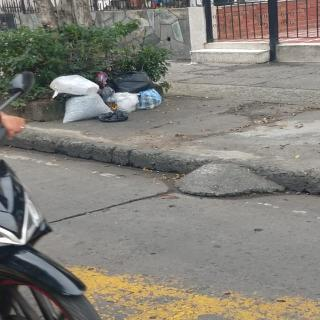Garbage: (62, 96, 112, 122), (48, 75, 99, 97), (112, 69, 153, 93), (111, 92, 140, 112), (138, 88, 162, 108)
